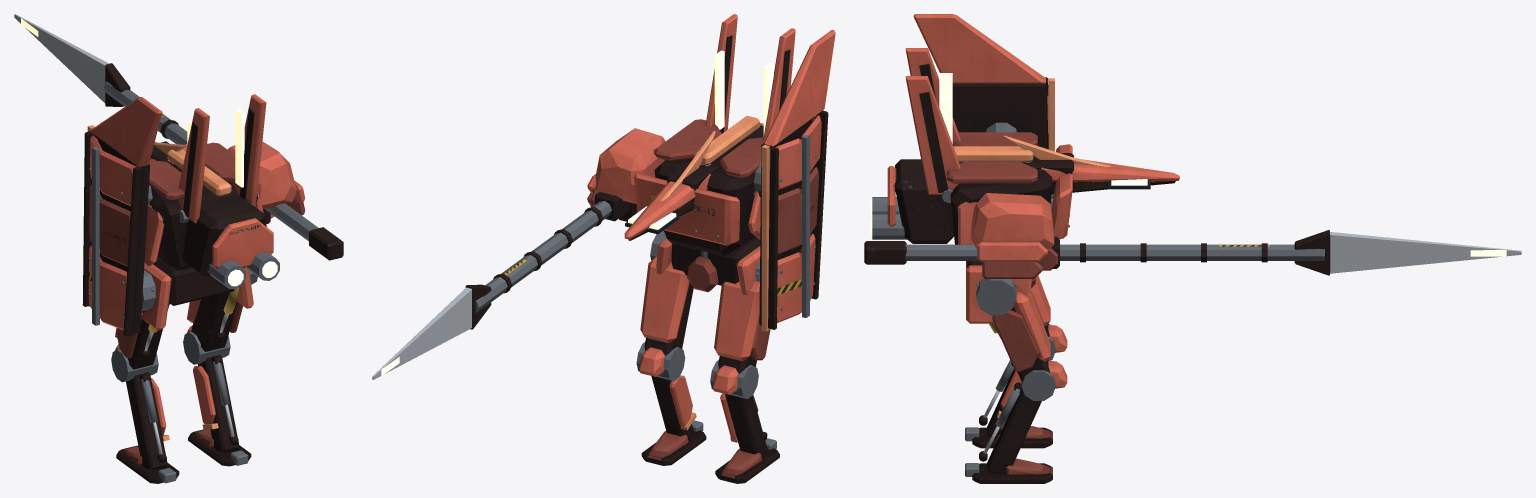
The model's file is pike.glb.
3 views of the same model, side by side, from view 1: azimuth 30°, elevation 25°; view 2: azimuth 150°, elevation 25°; view 3: azimuth 270°, elevation 25° (orthographic). The views are drawn at different scales.
Visible parts, largest first — view 1: armL|base|, pack|base|, torso|base|, lance|base|, shinR|base|, shinL|base|, armL|chip:18|, finL|base|, thighR|base|, armR|chip:10|, thighL|base|, finR|base| (+8 smaller); view 2: armL|base|, torso|base|, lance|base|, armL|chip:18|, torso|chip:30|, armR|chip:10|, thighR|chip:38|, thighL|chip:32|, shinL|base|, shinR|base|, head|base|, pelvis|base| (+11 smaller); view 3: lance|base|, torso|base|, armL|base|, armL|chip:18|, pack|base|, armR|chip:10|, finR|base|, shinR|base|, thighR|base|, head|base|, armR|base|, footR|base| (+6 smaller).
Part boxes in pixels (x1,y1,x2,y2): armL|base|: (82, 125, 152, 336); pack|base|: (182, 195, 279, 289); torso|base|: (144, 141, 267, 270); lance|base|: (14, 14, 343, 260); shinR|base|: (183, 331, 239, 452); shinL|base|: (111, 349, 169, 470); armL|chip:18|: (90, 97, 162, 166); finL|base|: (177, 108, 209, 223); thighR|base|: (191, 270, 257, 351); armR|chip:10|: (227, 141, 296, 209); thighL|base|: (116, 270, 170, 369); finR|base|: (232, 94, 266, 206); armL|base|: (754, 110, 828, 331); torso|base|: (654, 115, 764, 255); lance|base|: (372, 189, 638, 379); armL|chip:18|: (764, 29, 835, 146); torso|chip:30|: (634, 173, 739, 245); armR|chip:10|: (595, 128, 665, 203); thighR|chip:38|: (640, 257, 689, 343); thighL|chip:32|: (714, 281, 759, 361); shinL|base|: (710, 360, 767, 458); shinR|base|: (636, 342, 696, 440); head|base|: (624, 131, 715, 240); pelvis|base|: (671, 237, 760, 292); lance|base|: (864, 230, 1521, 275); torso|base|: (947, 132, 1073, 244); armL|base|: (952, 77, 1054, 151); armL|chip:18|: (913, 14, 1045, 83); pack|base|: (872, 159, 953, 243); armR|chip:10|: (971, 193, 1054, 249); finR|base|: (905, 76, 960, 202); shinR|base|: (979, 359, 1055, 474); thighR|base|: (976, 278, 1049, 381); head|base|: (1004, 135, 1179, 198); armR|base|: (977, 242, 1047, 278); footR|base|: (965, 458, 1052, 483).
Bounding box in the file's own units: 2.34 × 4.48 × 6.52.
6 materials, 1 textured.
